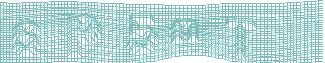5: (125, 11, 160, 57)
P: (66, 12, 100, 59)
T: (223, 16, 258, 61)
n: (169, 16, 199, 46)
s: (10, 17, 41, 59)
